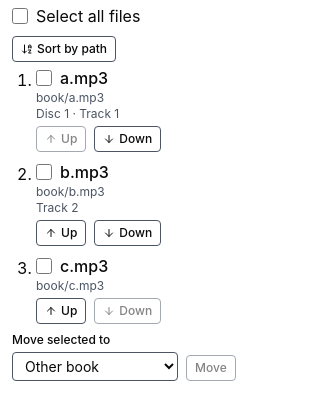
Test: GroupFiles › moving selected files › labels each checkbox and the select, and disables Move with nothing selected
expect the checkbox named "Select a.mp3" is not checked: met, box [36,70,52,86]
expect the checkbox named "Select c.mp3" is not checked: met, box [36,258,52,274]
Click the checkbox named "Select b.mp3". click: (44, 172)
box: [36,164,52,180]
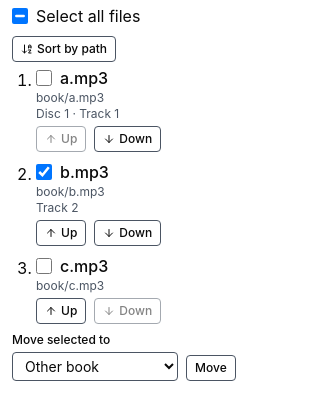
expect the button "Move" is enabled: met, box [186,355,236,381]
